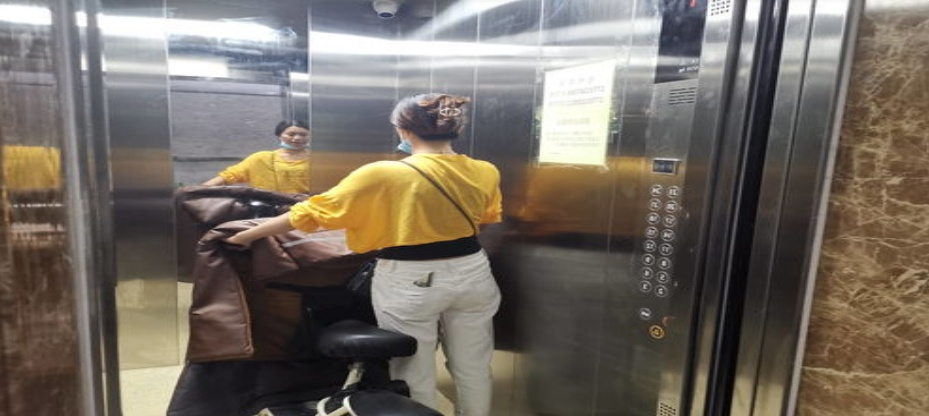ebike: (188, 218, 449, 416)
person: (226, 92, 500, 415), (180, 115, 310, 206)
